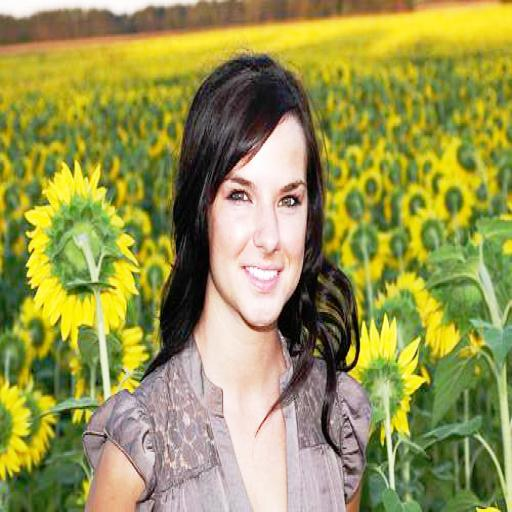sunflower: (25, 156, 132, 334), (346, 322, 424, 438)
